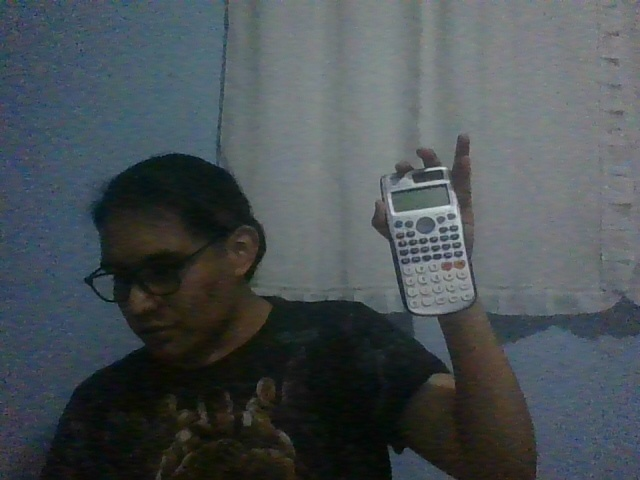calculadora: (379, 166, 478, 317)
